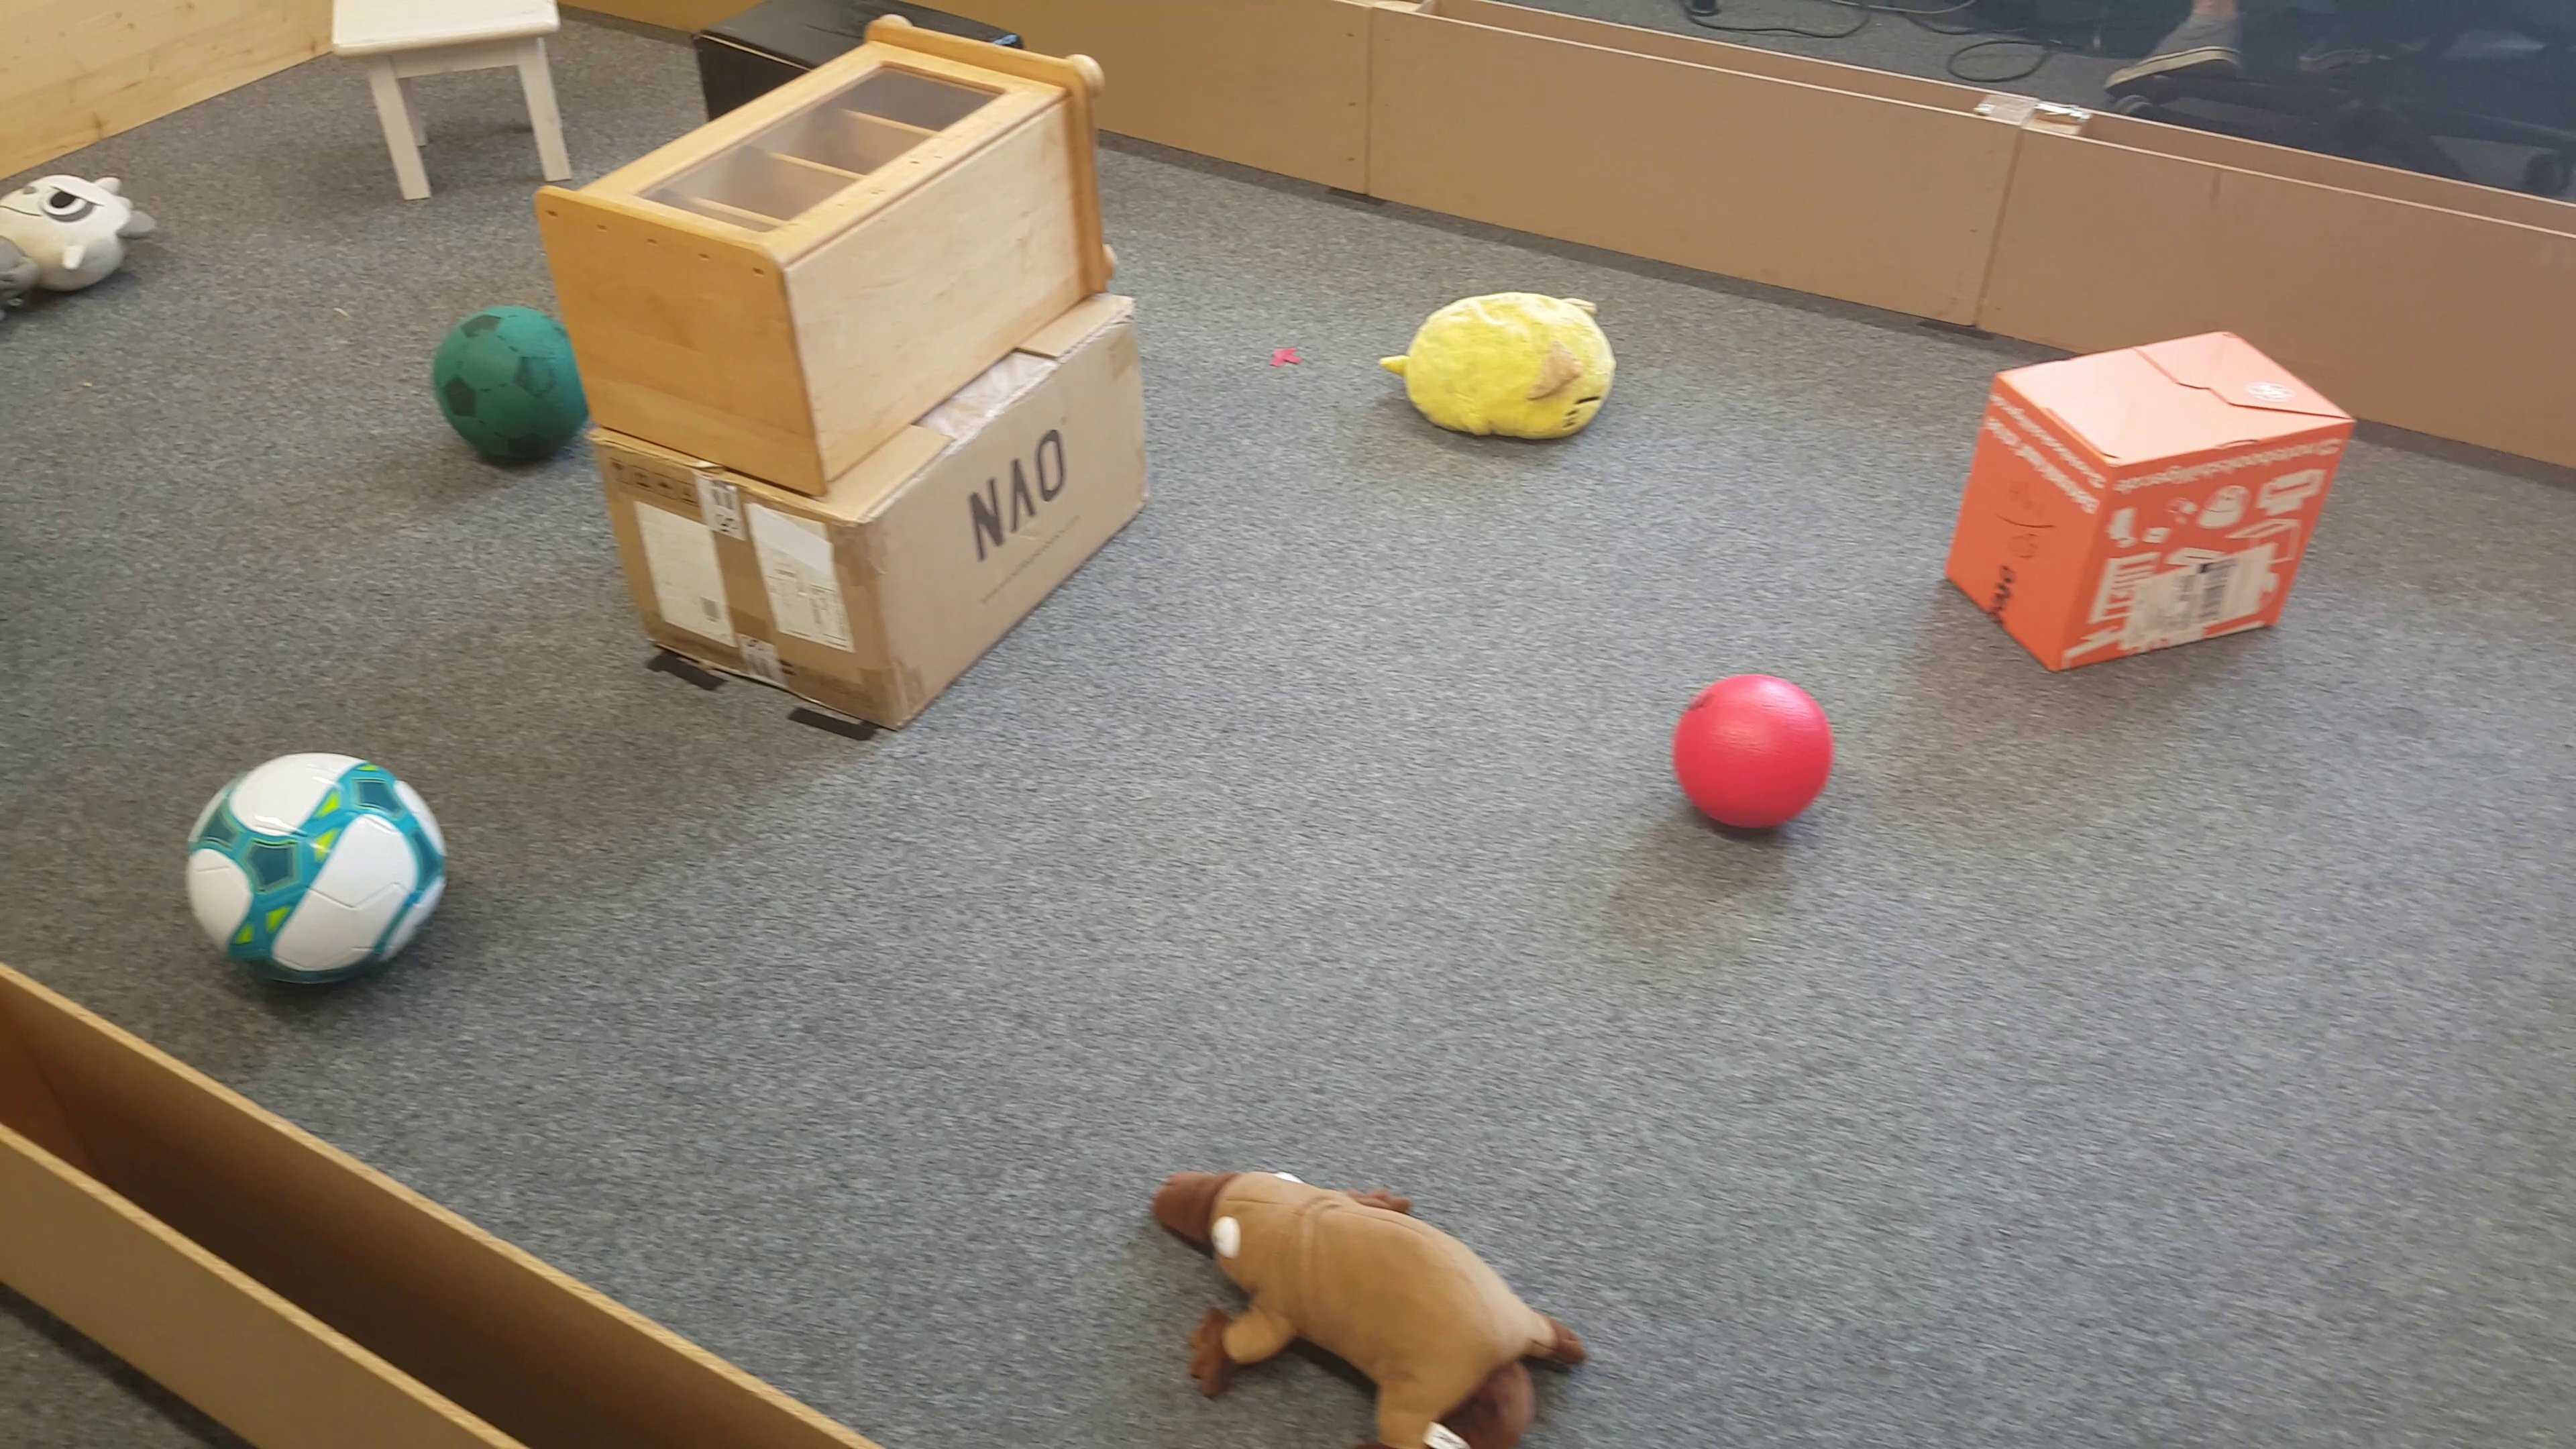grasp: (1150, 1169, 1582, 1449), (1380, 287, 1612, 448), (4, 168, 156, 322)
kick: (184, 747, 453, 982), (432, 308, 589, 478), (1677, 674, 1836, 839)
push: (1944, 329, 2358, 672), (702, 0, 832, 53)
